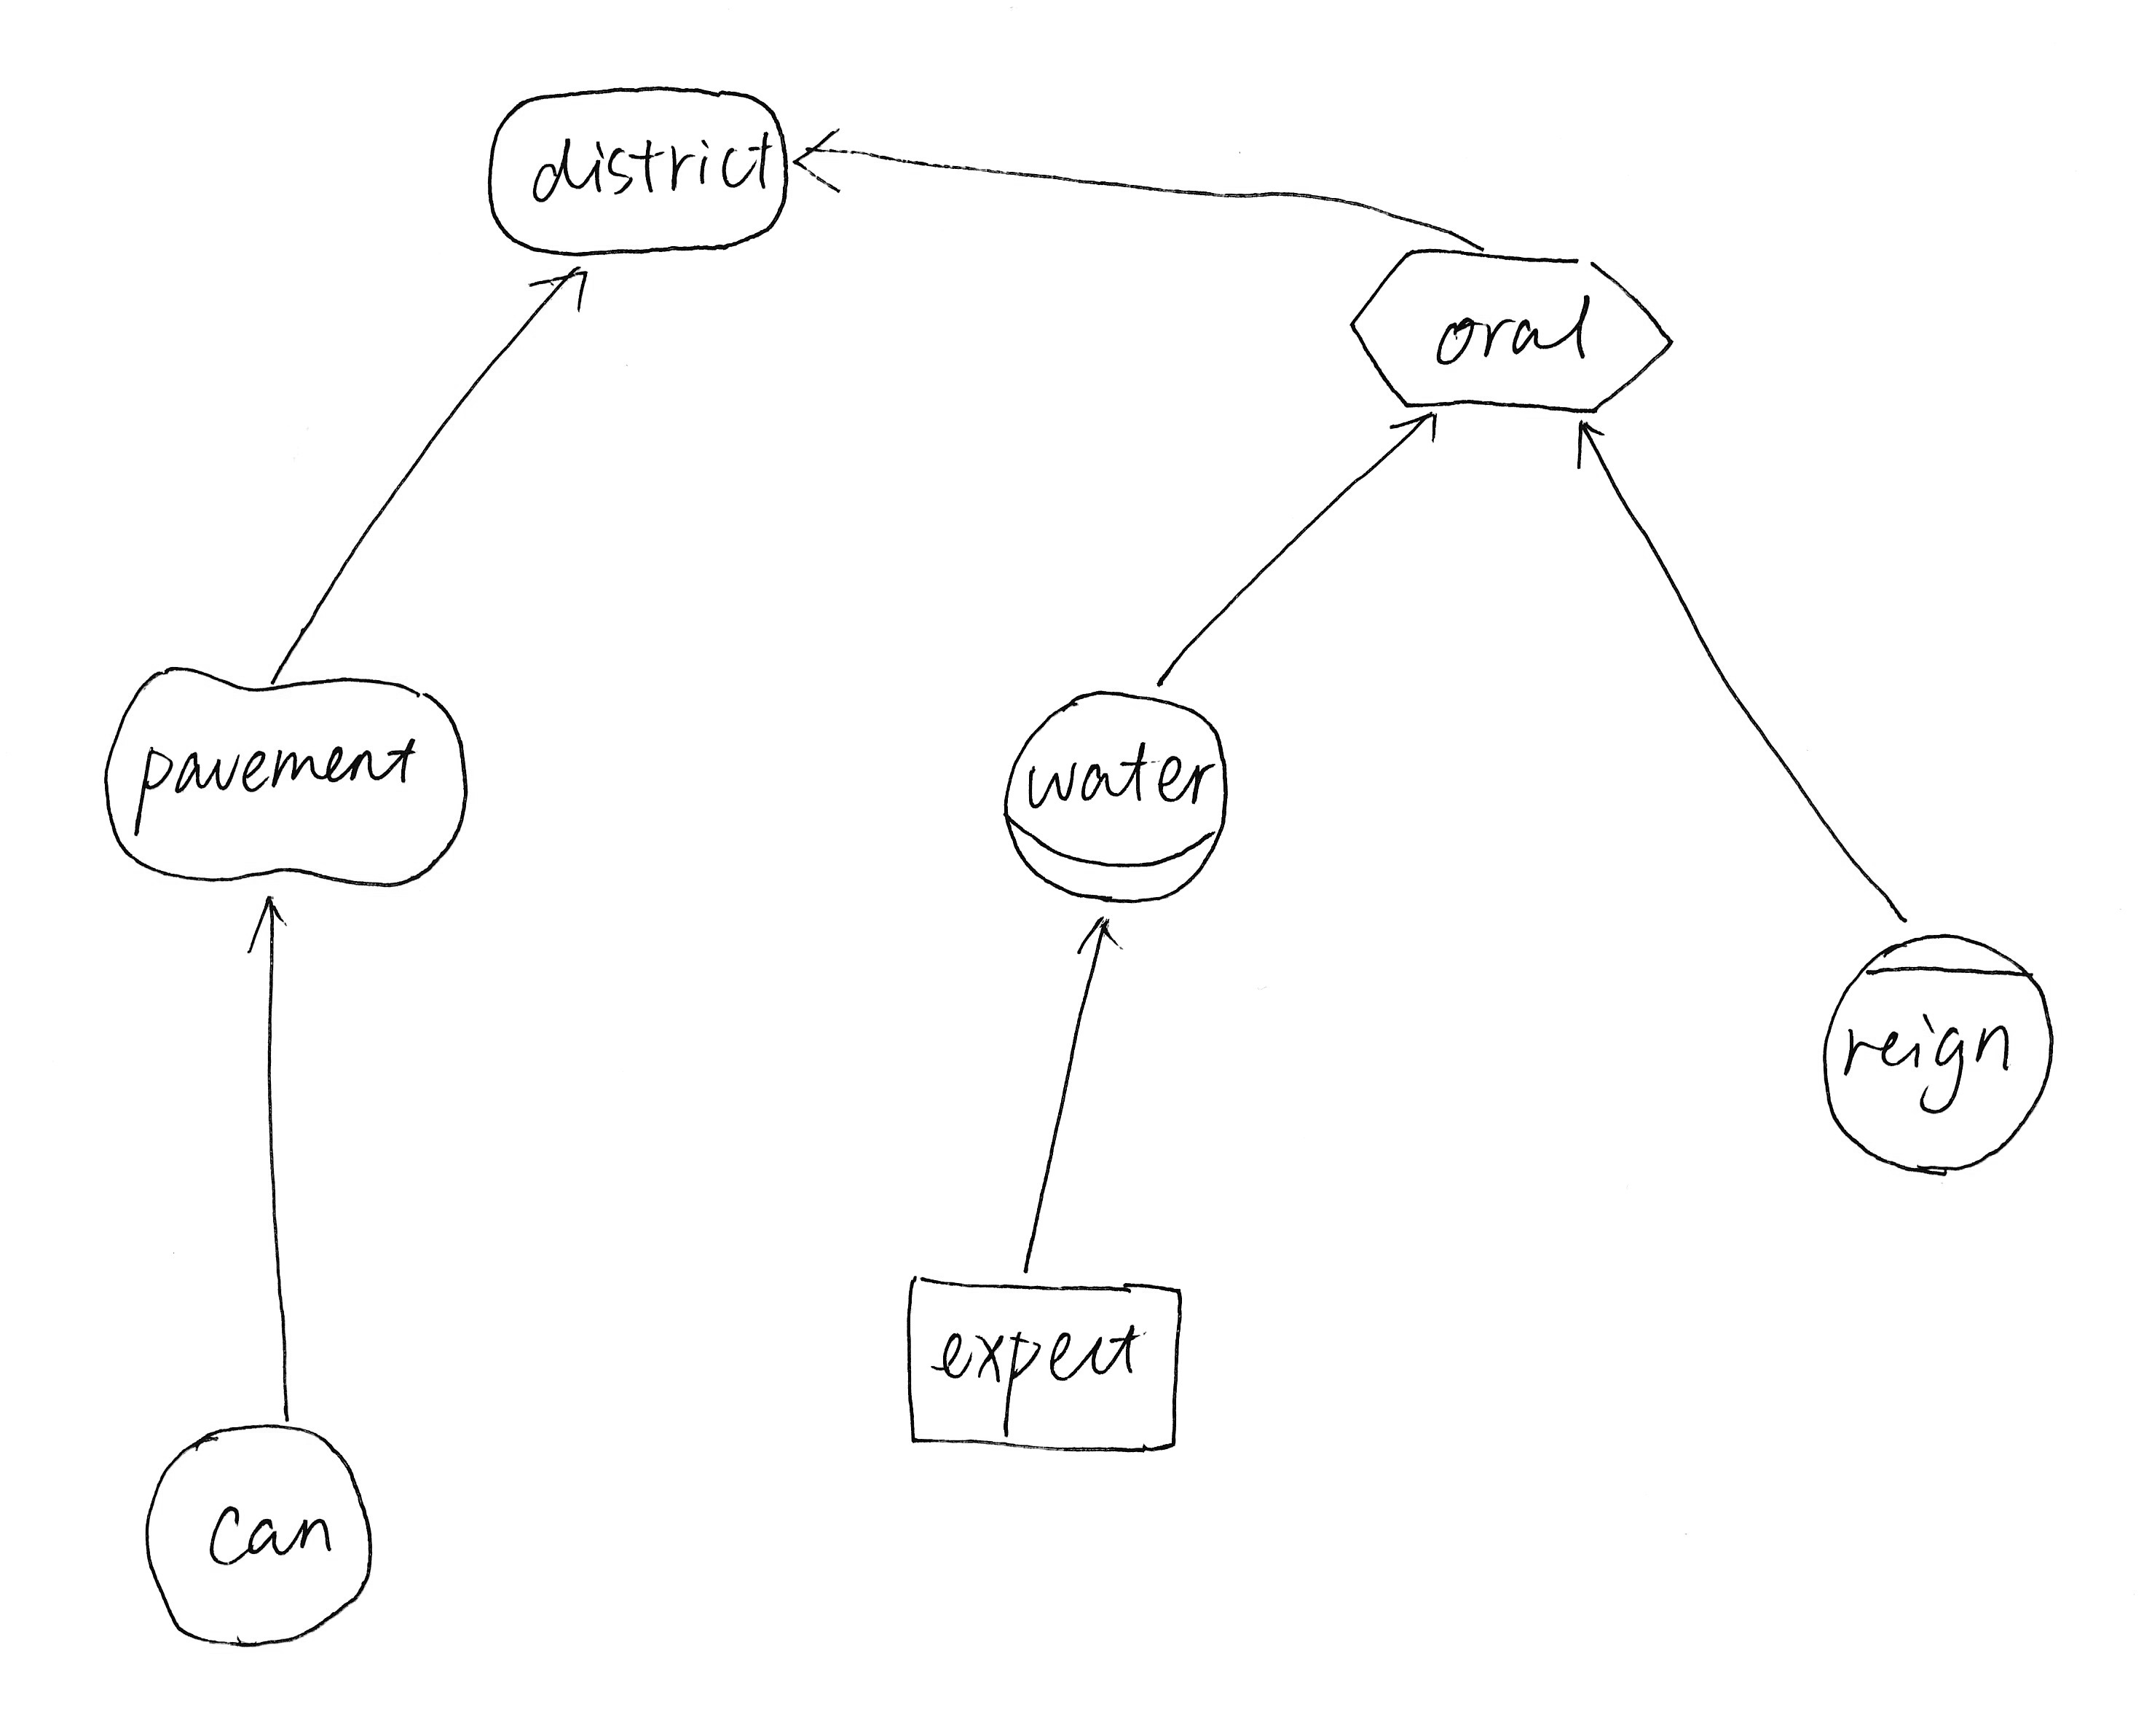actor: (115, 1401, 407, 1670)
agent: (1805, 911, 2067, 1189)
arrow: (783, 115, 850, 218), (1546, 406, 1622, 478), (519, 262, 595, 331), (1056, 905, 1135, 971), (234, 886, 305, 958), (1373, 400, 1454, 459)
goal: (475, 71, 802, 267)
quality: (83, 645, 484, 898)
resource: (884, 1252, 1203, 1484)
role: (985, 671, 1249, 918)
task: (1335, 230, 1688, 434)
